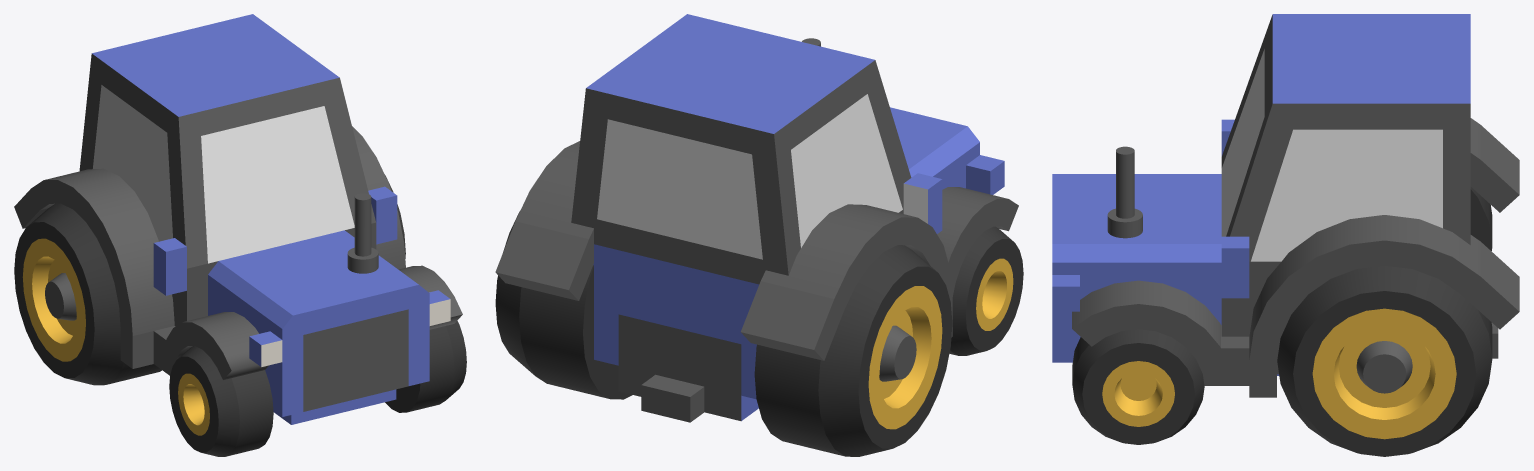
File: tractor.fbx
3 renders of one model, left to right at view 1: azimuth 30°, elevation 25°; view 2: azimuth 150°, elevation 25°; view 3: azimuth 270°, elevation 25°, orthographic. The views are drawn at different scales.
Parts seen in each view (by area): view 1: body, skirts, wheel_backRight, wheel_frontRight, wheel_frontLeft; view 2: body, skirts, wheel_backRight, wheel_backLeft, wheel_frontRight; view 3: body, wheel_backLeft, skirts, wheel_frontLeft, wheel_backRight.
Part boxes in pixels (<box>): body: <box>79,14,450,424</box>; skirts: <box>14,126,462,379</box>; wheel_backRight: <box>14,203,161,385</box>; wheel_frontRight: <box>169,346,273,456</box>; wheel_frontLeft: <box>385,320,466,412</box>; body: <box>571,14,1004,422</box>; skirts: <box>495,141,1018,360</box>; wheel_backRight: <box>754,245,952,456</box>; wheel_backLeft: <box>495,211,632,399</box>; wheel_frontRight: <box>949,226,1023,355</box>; body: <box>1052,14,1498,375</box>; wheel_backLeft: <box>1277,265,1492,456</box>; skirts: <box>1072,118,1519,397</box>; wheel_frontLeft: <box>1072,329,1204,444</box>; wheel_backRight: <box>1470,187,1492,250</box>.
Bounding box in the file's own units: 16.61 × 14.62 × 18.97.
